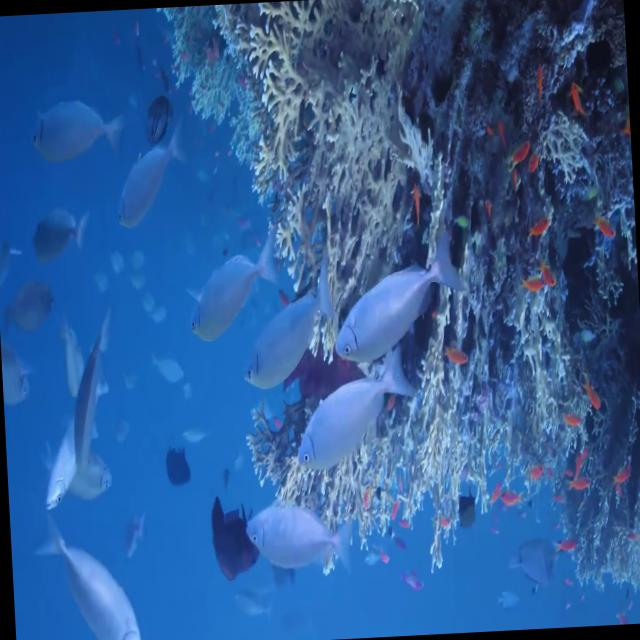fish: (332, 234, 464, 366), (180, 218, 296, 343), (232, 282, 356, 398), (290, 357, 414, 471), (37, 524, 149, 640), (246, 499, 362, 580), (108, 132, 186, 227), (20, 99, 124, 168)
